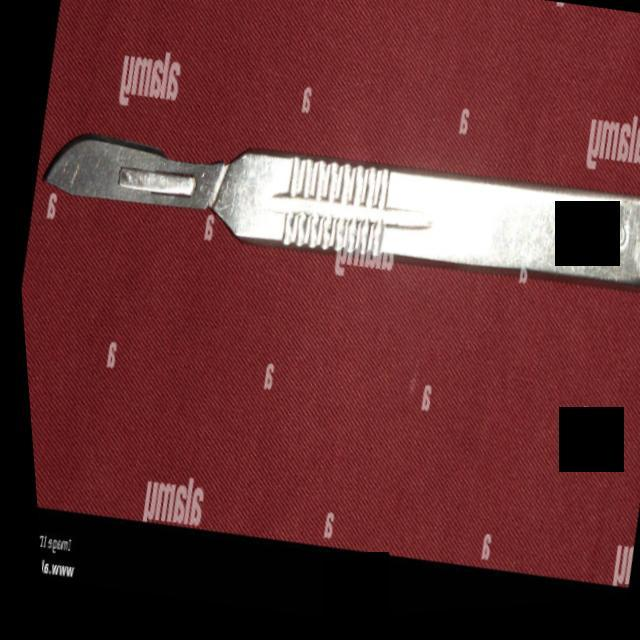Knife handle: (195, 107, 640, 349)
Surgical blade: (28, 112, 231, 245)
